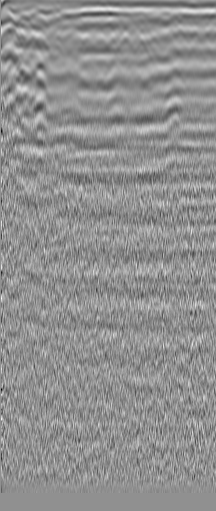오수: (18, 30, 44, 54)
우수: (160, 41, 184, 64)
